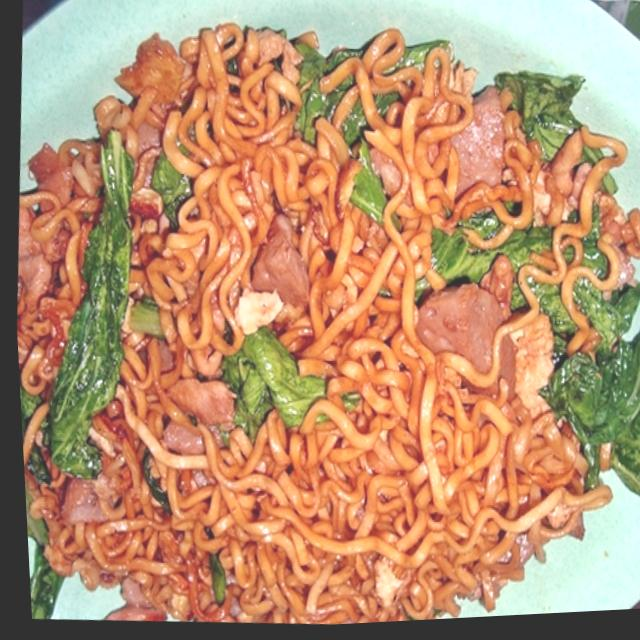面条主食: (2, 22, 640, 640)
